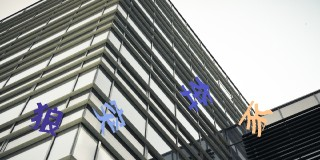奔: (180, 77, 213, 112)
狼: (31, 102, 63, 137)
突: (93, 99, 126, 135)
豕: (236, 100, 273, 138)
